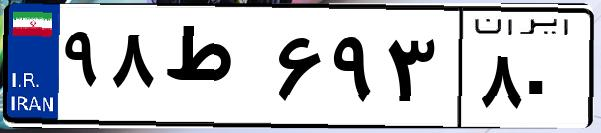0: (525, 38, 570, 115)
3: (385, 28, 445, 110)
6: (270, 28, 330, 110)
8: (475, 38, 525, 113), (110, 28, 158, 98)
9: (330, 28, 385, 110), (57, 26, 110, 100)
ط: (158, 20, 270, 120)
